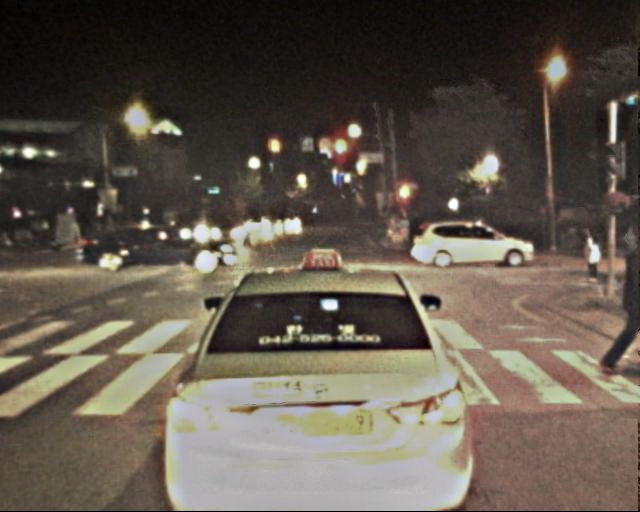person: (619, 226, 640, 282), (583, 227, 605, 280)
